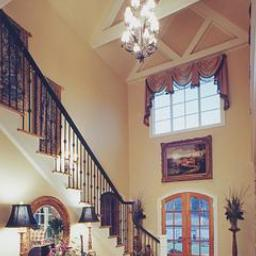Escaleras: (0, 14, 154, 256)
Matera: (219, 180, 252, 256)
Puerta: (160, 190, 213, 256)
